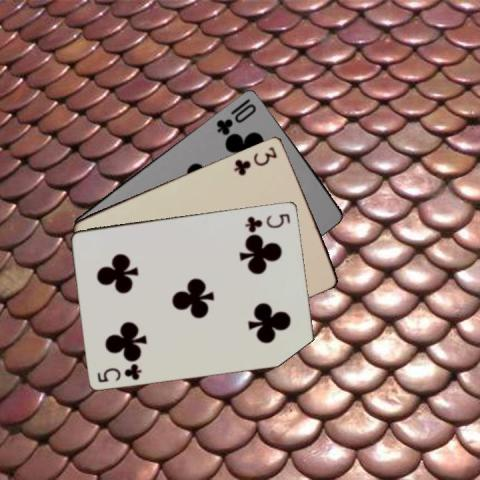10c: (213, 95, 258, 136)
3c: (231, 143, 279, 177)
5c: (95, 360, 143, 383), (242, 210, 292, 231)
